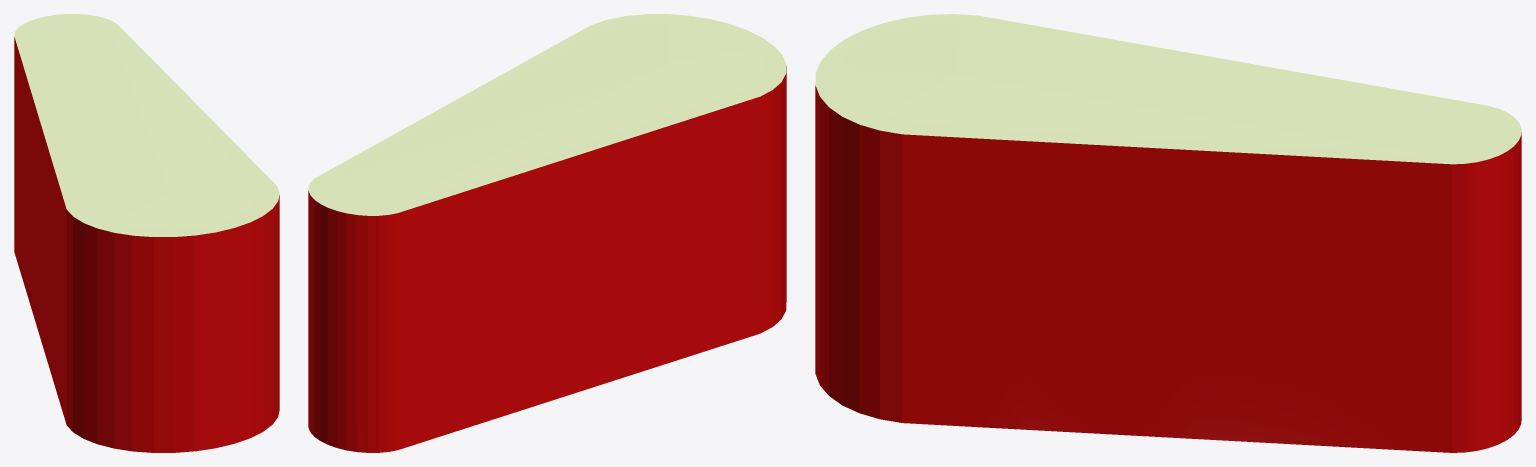
File: Flipper.obj
3 renders of one model, left to right at view 1: azimuth 30°, elevation 25°; view 2: azimuth 150°, elevation 25°; view 3: azimuth 270°, elevation 25°, orthographic. The views are drawn at different scales.
Visible parts, largest first — view 1: Flipper_Circle; view 2: Flipper_Circle; view 3: Flipper_Circle.
Part boxes in pixels (x1,y1,x2,y2): Flipper_Circle: [14, 14, 279, 452]; Flipper_Circle: [308, 14, 786, 452]; Flipper_Circle: [815, 14, 1521, 452].
Size of the model in its own units: 0.934 by 0.8399 by 1.85.
